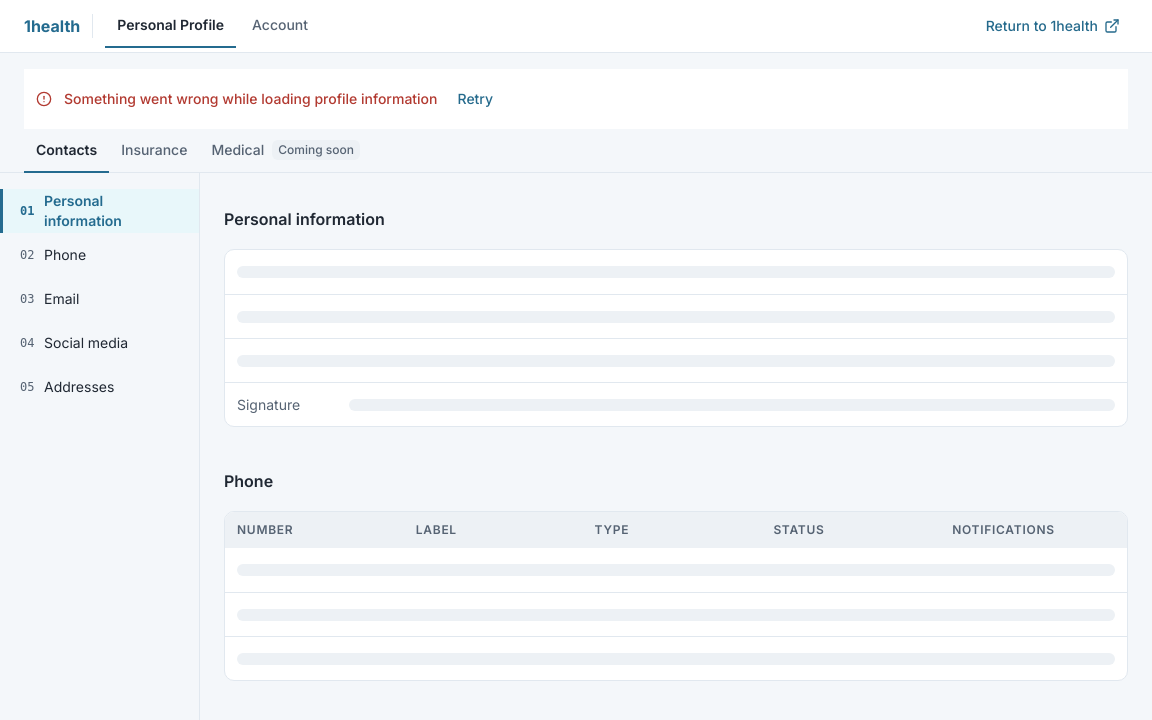
Test case: PageFrame › shows a myself read failure via ReadStateFor, and Retry refetches only myself
Expected: the text "Something went wrong while loading profile information" is shown, [64, 89, 438, 109]
Click the button "Retry" at (475, 99), box [450, 77, 501, 121]
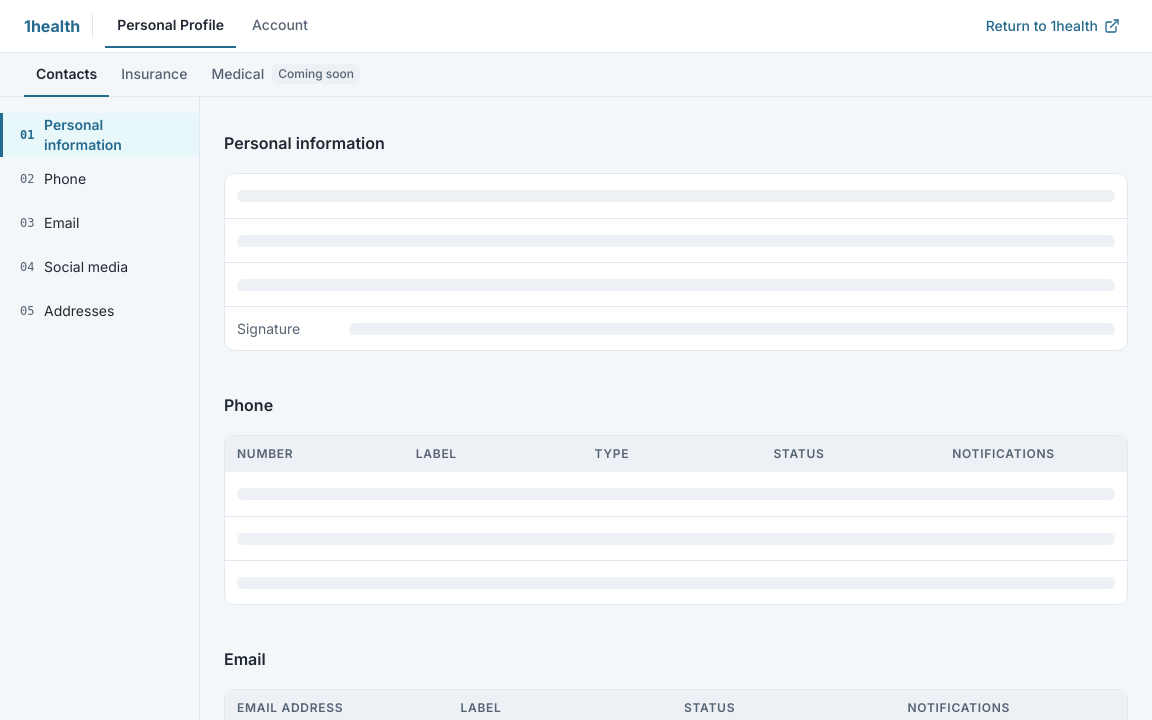
Now the text "Something went wrong while loading profile information" is gone
